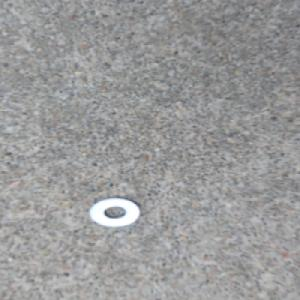Washer: (84, 196, 143, 229)
